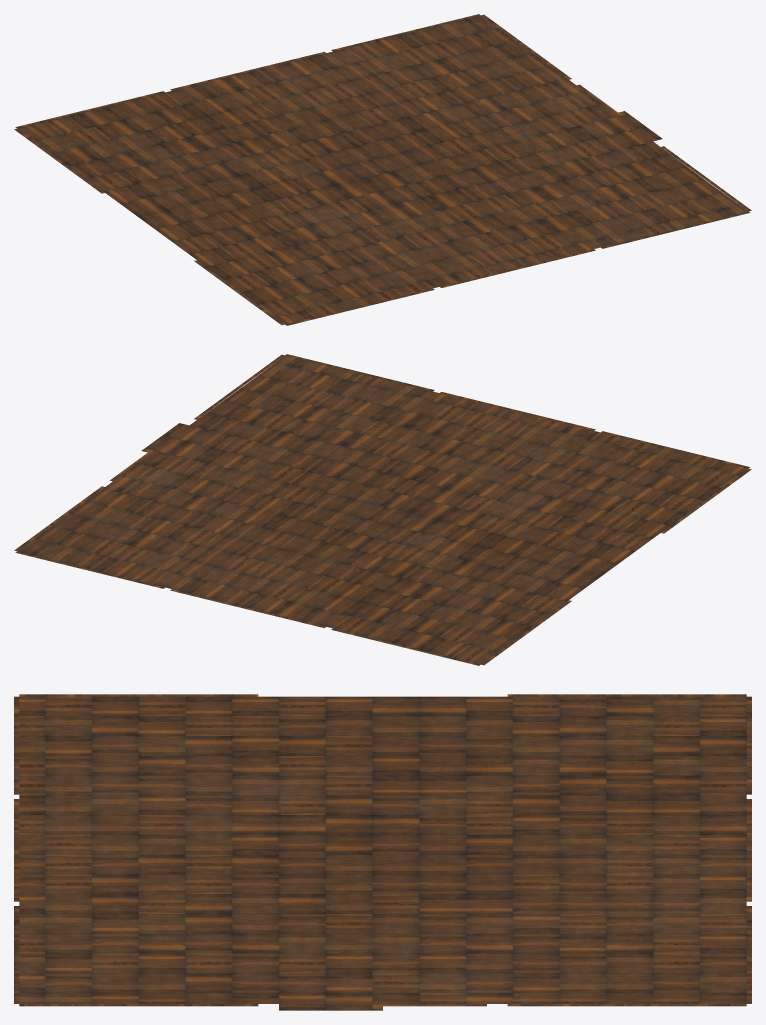
The model's file is MSH_B_Floor.glb.
3 views of the same model, one above another, from view 1: azimuth 30°, elevation 25°; view 2: azimuth 150°, elevation 25°; view 3: azimuth 270°, elevation 25° (orthographic). The views are drawn at different scales.
Parts seen in each view (by area): view 1: Floor Room B; view 2: Floor Room B; view 3: Floor Room B.
Part boxes in pixels (left/top/right/bottom): Floor Room B: left=14, top=14, right=751, bottom=325; Floor Room B: left=14, top=354, right=751, bottom=665; Floor Room B: left=14, top=694, right=751, bottom=1010.
Bounding box in the file's own units: 7.2 × 0.00576 × 7.1.
1 material, 1 textured.
